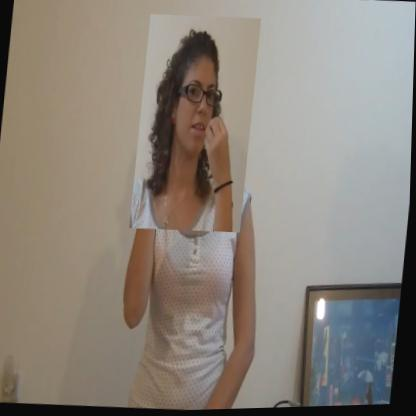Food: (131, 12, 261, 236)
